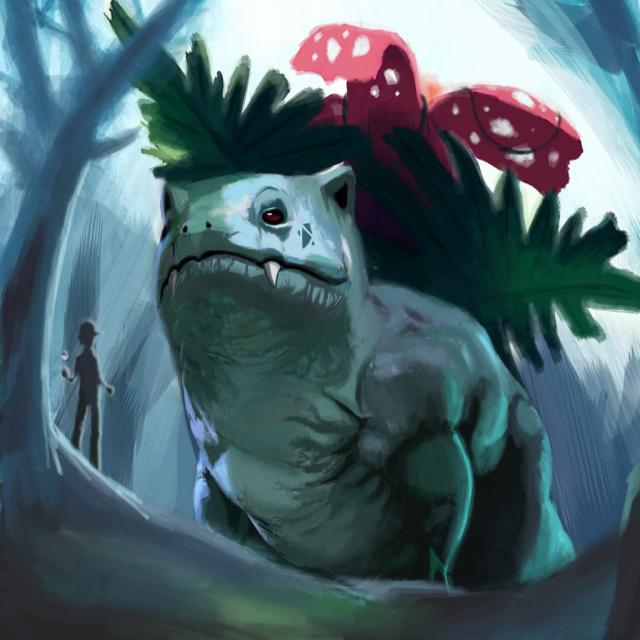Venusaur: (154, 31, 576, 562)
